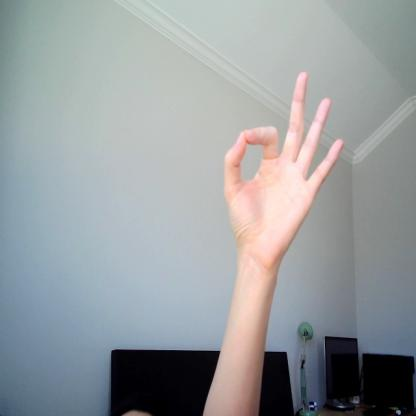F: (221, 71, 346, 269)
